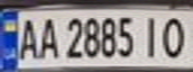2: (60, 13, 84, 60)
5: (115, 12, 139, 60)
8: (81, 13, 103, 60), (100, 14, 121, 58)
A: (33, 14, 60, 61), (15, 15, 42, 61)
I: (136, 12, 163, 59)
O: (157, 13, 190, 60)
